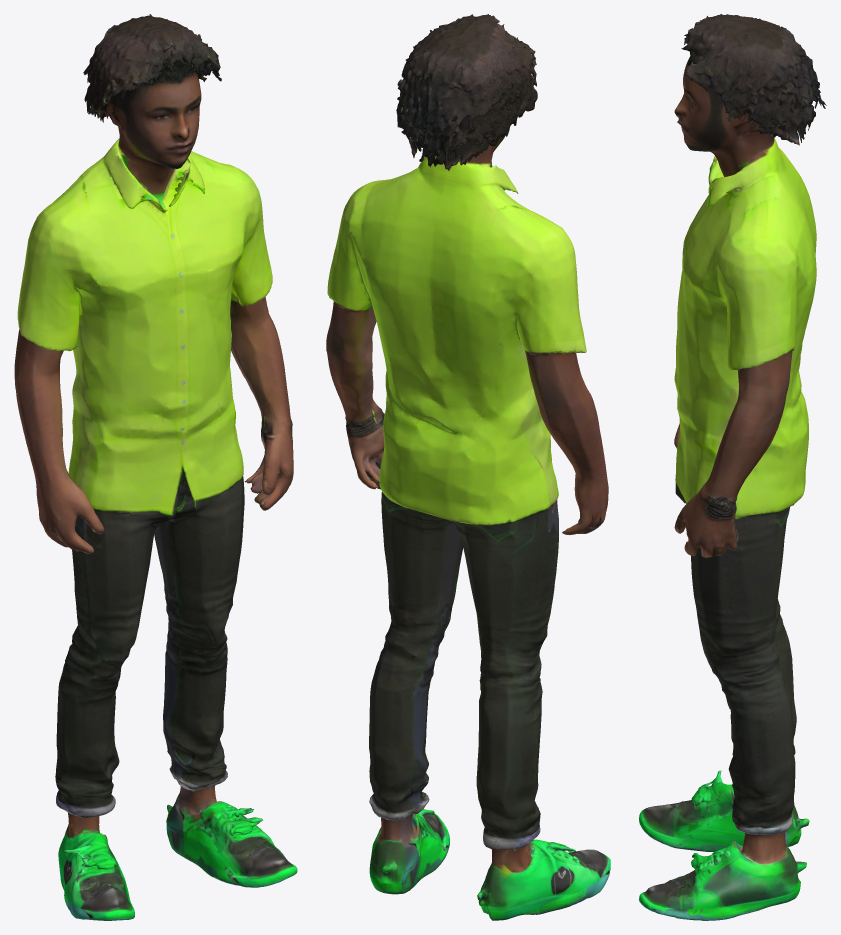
Rendered from kaspacrosscharacter.glb.
3 renders of one model, left to right at view 1: azimuth 30°, elevation 25°; view 2: azimuth 150°, elevation 25°; view 3: azimuth 270°, elevation 25°, orthographic.
Bounding box in the file's own units: 0.6208 × 1.98 × 0.3938.
Materials: 1 (1 with a texture image).
